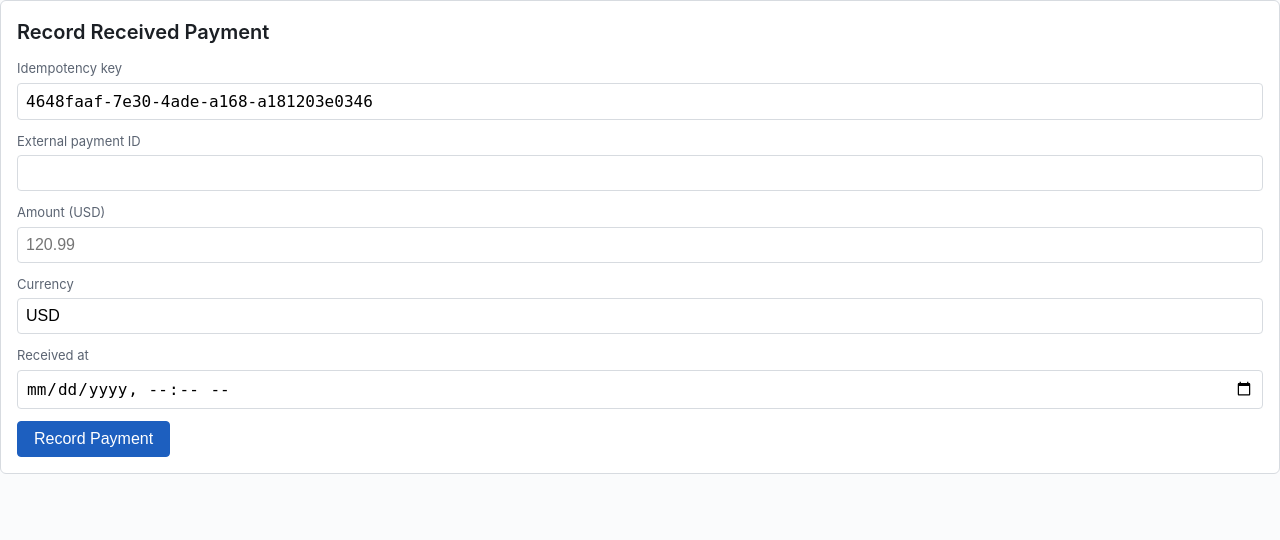
Test case: PaymentForm › blocks submission client-side for a zero amount
Step 1. Type "PAY-9001" into the field labelled "External payment ID" → (640, 173), box [17,155,1263,191]
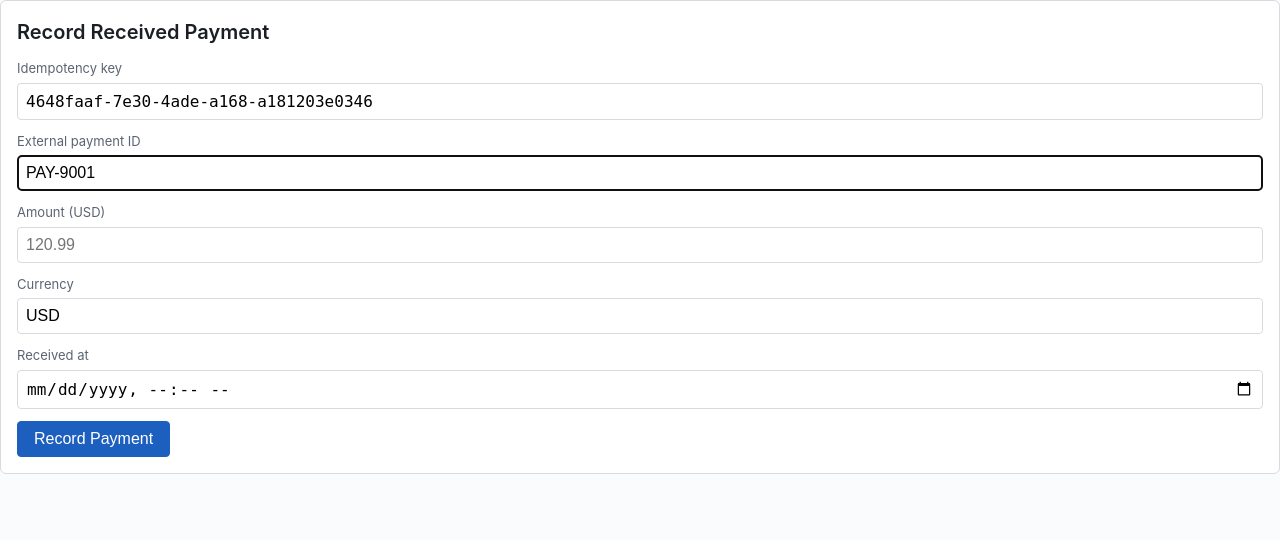
Step 2. Type "0" into the field labelled "Amount (USD)" → (640, 244), box [17,226,1263,262]
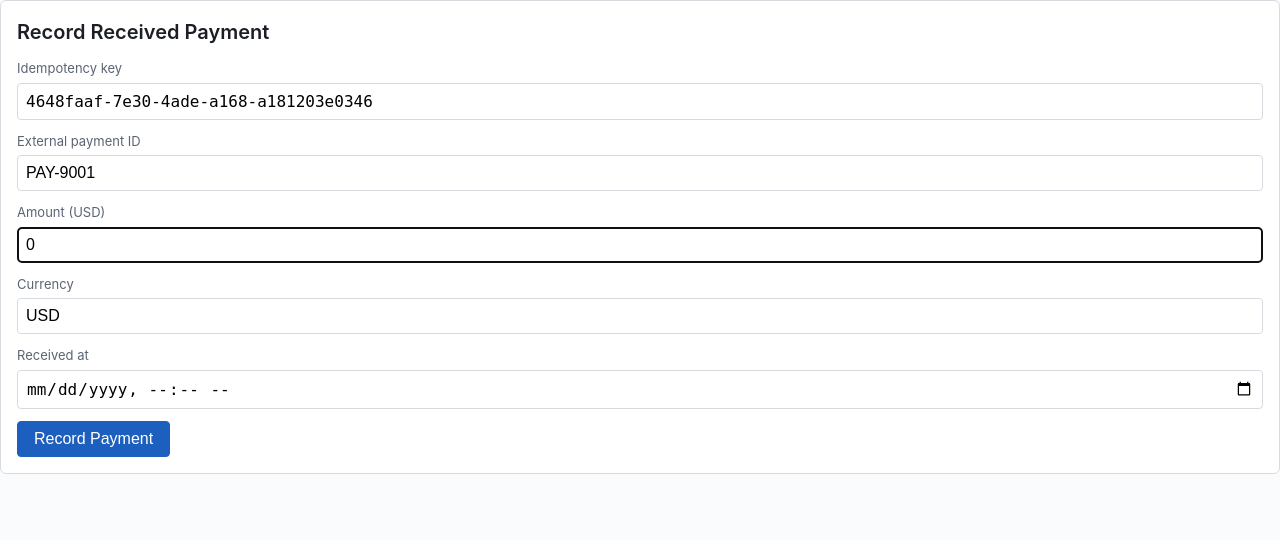
Step 3. Type "2026-07-03T18:30" into the field labelled "Received at" → (640, 389), box [17,370,1263,408]
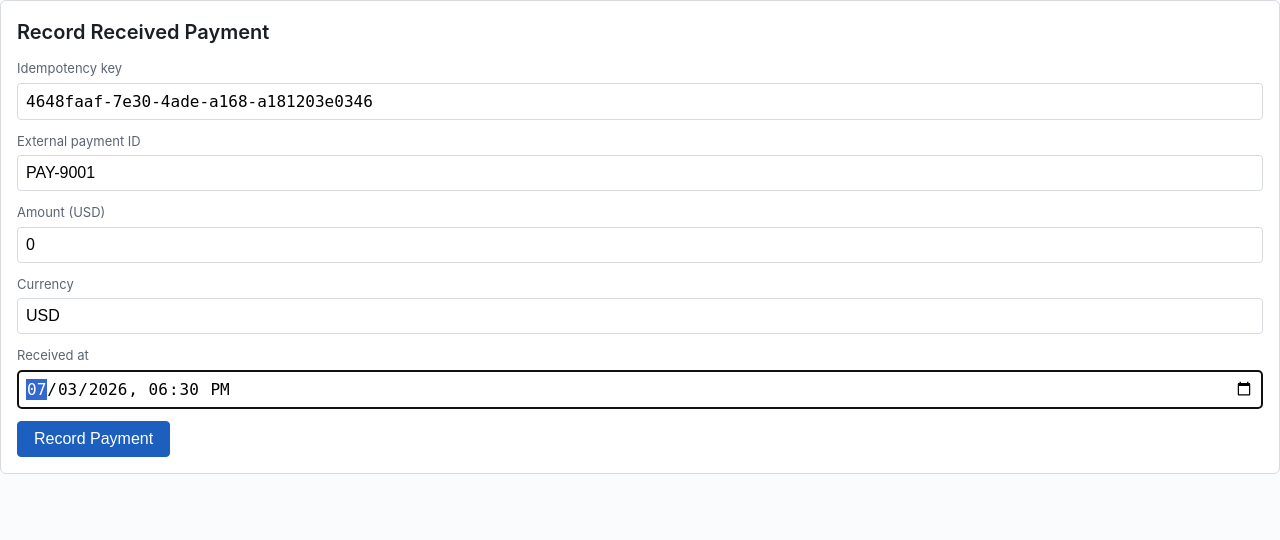
Step 4. Click the button "Record Payment" → click(94, 438), box [17,420,170,456]
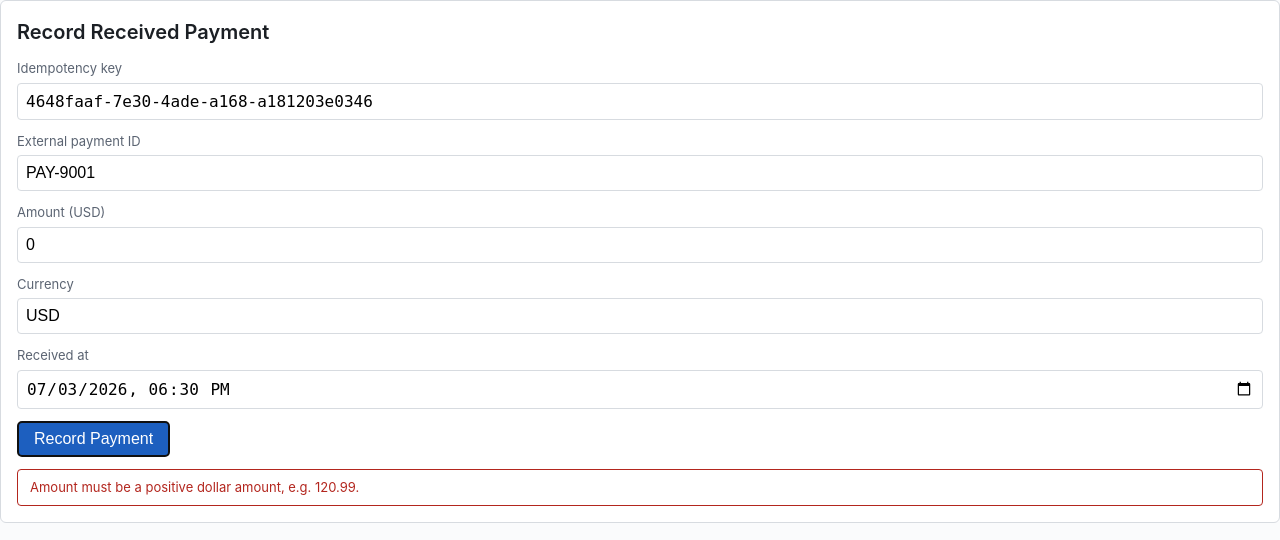
Now the message with test id "payment-local-error" shows "positive dollar amount", box [30,478,359,494]
